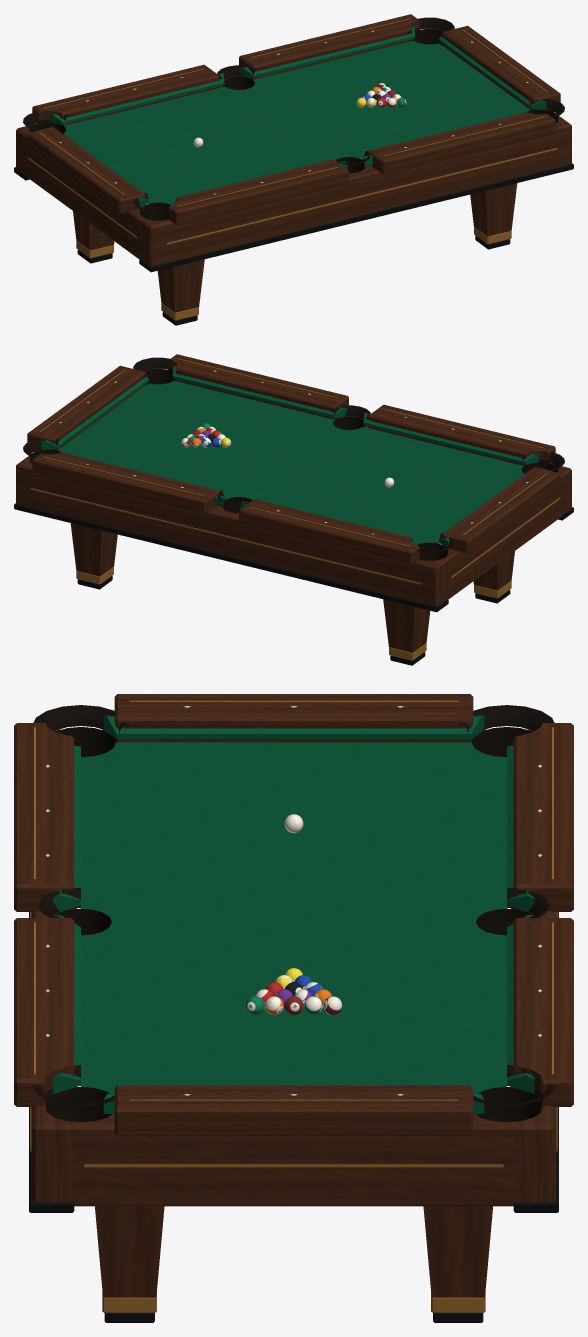
The model's file is Before_Pocket_Fill_Billiard_Nocturne.glb.
3 views of the same model, one above another, from view 1: azimuth 30°, elevation 25°; view 2: azimuth 150°, elevation 25°; view 3: azimuth 270°, elevation 25° (orthographic). The views are drawn at different scales.
Parts seen in each view (by area): view 1: Billiard_Nocturne_Table; view 2: Billiard_Nocturne_Table; view 3: Billiard_Nocturne_Table.
Part boxes in pixels (x1,y1,x2,y2): Billiard_Nocturne_Table: (14,14,573,325); Billiard_Nocturne_Table: (14,354,573,665); Billiard_Nocturne_Table: (14,694,573,1322).
Size of the model in its own units: 2.94 by 0.8715 by 1.67.
Materials: 2 (2 with a texture image).
